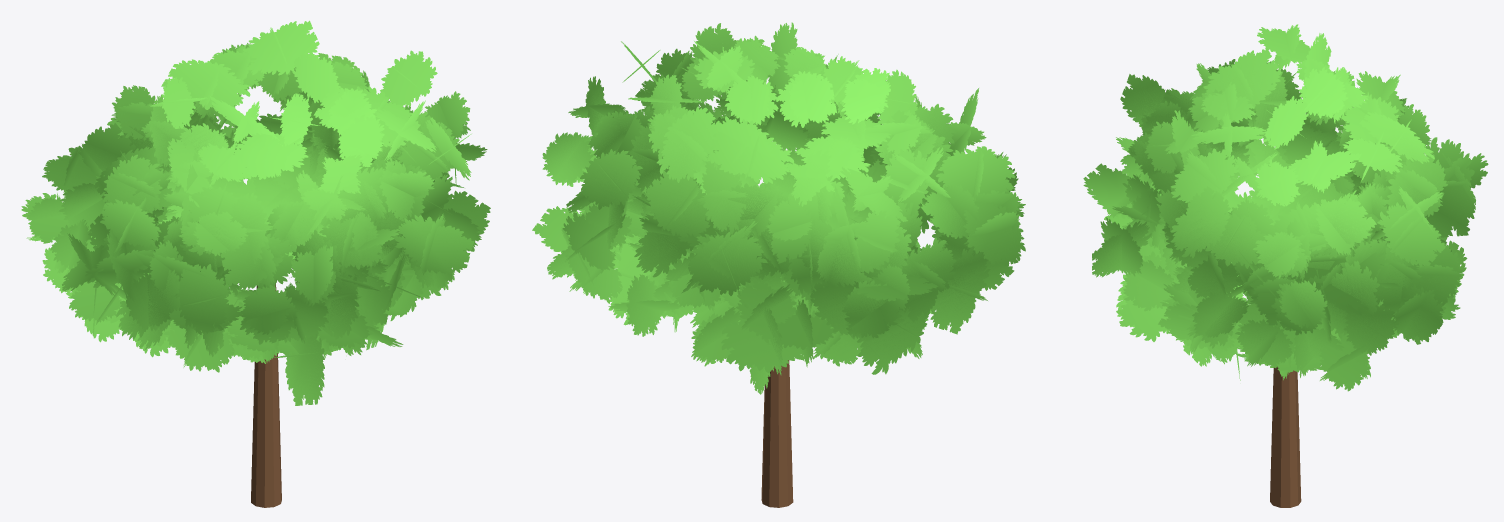
File: tree_foliage_384card_v6.glb
3 renders of one model, left to right at view 1: azimuth 30°, elevation 25°; view 2: azimuth 150°, elevation 25°; view 3: azimuth 270°, elevation 25°, orthographic. The views are drawn at different scales.
Visible parts, largest first — view 1: Tree_Foliage_384Cards_Random3D, Tree_Trunk_Straight; view 2: Tree_Foliage_384Cards_Random3D, Tree_Trunk_Straight; view 3: Tree_Foliage_384Cards_Random3D, Tree_Trunk_Straight.
Part boxes in pixels (left/top/right/bottom): Tree_Foliage_384Cards_Random3D: left=21, top=20, right=490, bottom=405; Tree_Trunk_Straight: left=251, top=283, right=281, bottom=507; Tree_Foliage_384Cards_Random3D: left=532, top=22, right=1025, bottom=394; Tree_Trunk_Straight: left=761, top=360, right=793, bottom=507; Tree_Foliage_384Cards_Random3D: left=1083, top=24, right=1488, bottom=391; Tree_Trunk_Straight: left=1270, top=366, right=1301, bottom=507.
Bounding box in the file's own units: 6.31 × 6.06 × 5.09.
2 materials, 1 textured.
